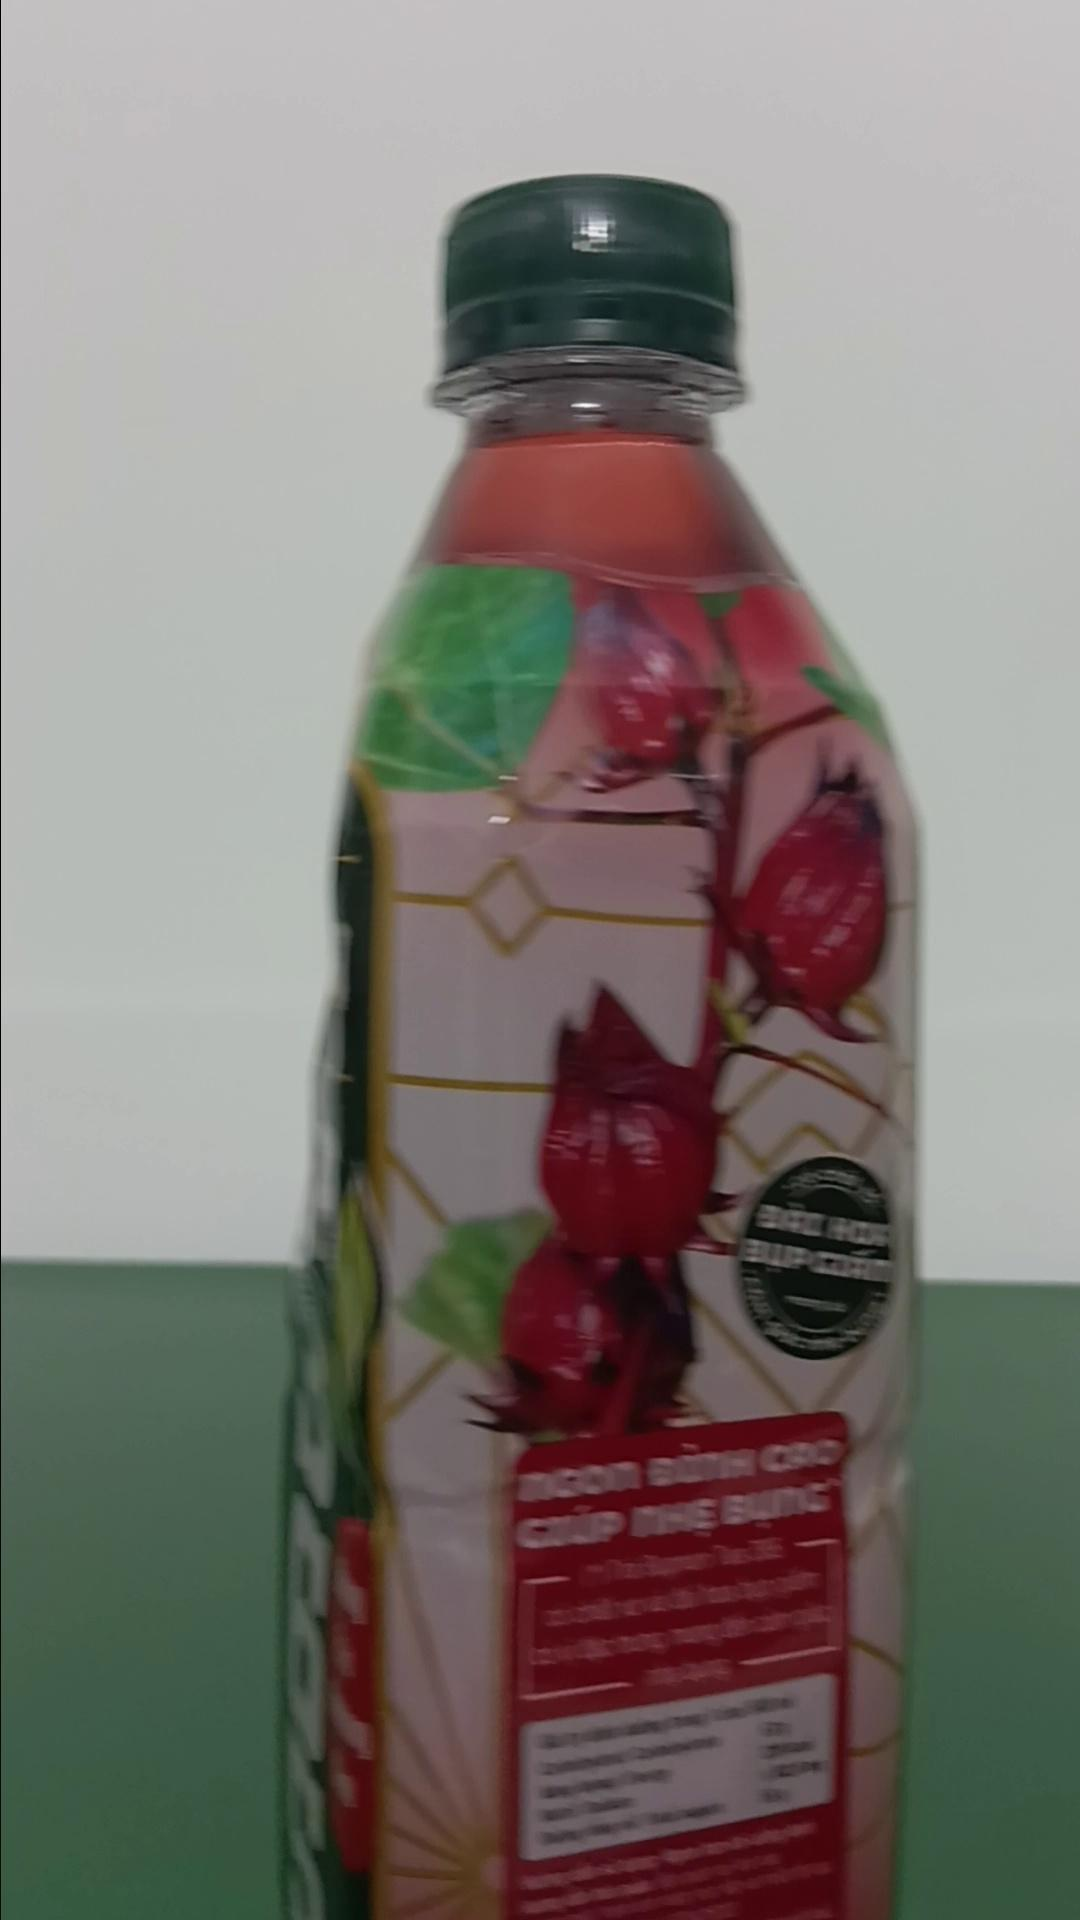loi meo sp: (273, 170, 926, 1915)
